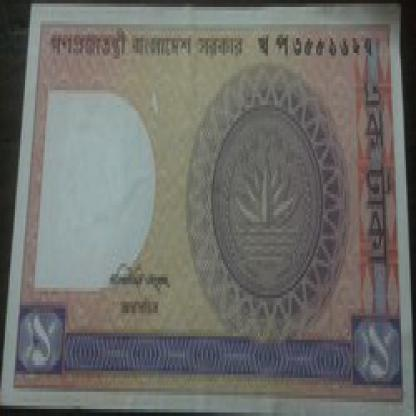One Taka: (359, 69, 396, 284), (352, 316, 402, 388), (20, 305, 62, 371)
